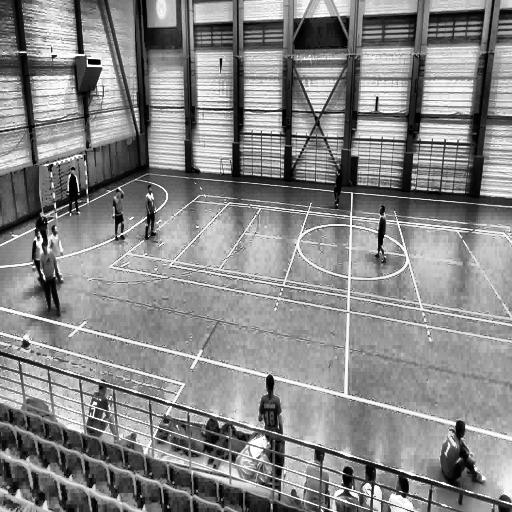ball: (21, 333, 30, 346)
player: (40, 226, 62, 314), (30, 228, 47, 282), (48, 221, 63, 280), (374, 203, 387, 262), (144, 182, 157, 240), (112, 186, 125, 242), (67, 168, 80, 217), (332, 162, 342, 210), (34, 210, 48, 244)
